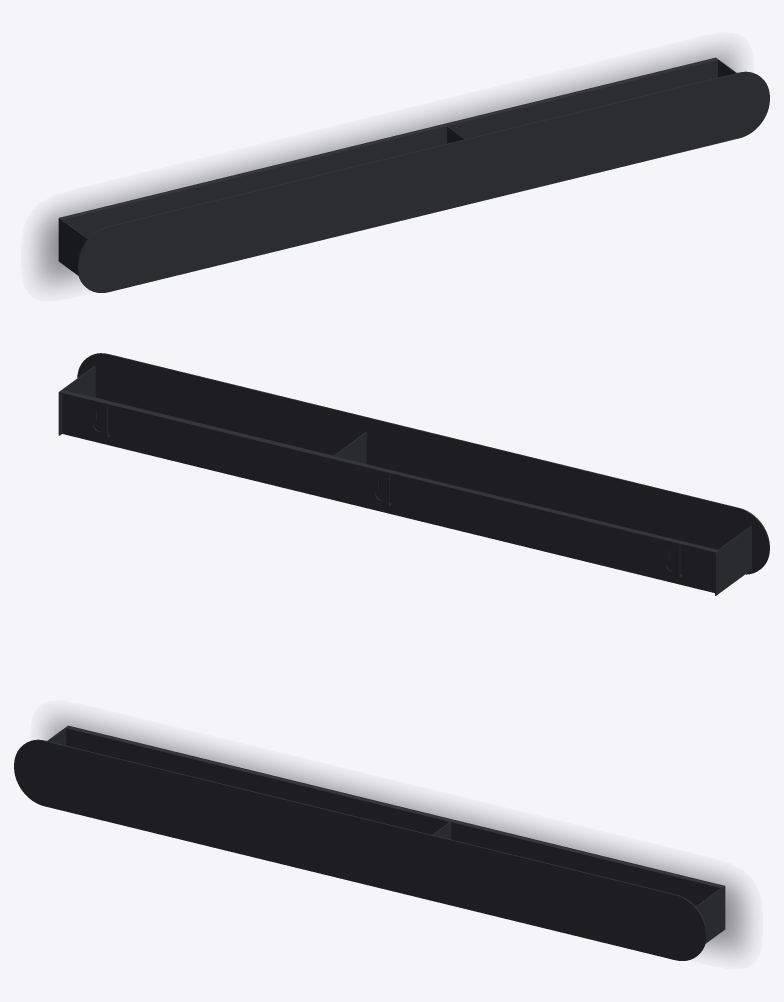
The model's file is round-double.4ce0a3fb44.ar.glb.
3 views of the same model, one above another, from view 1: azimuth 30°, elevation 25°; view 2: azimuth 150°, elevation 25°; view 3: azimuth 330°, elevation 25° (orthographic).
Visible parts, largest first — view 1: NAUO1, object 2; view 2: NAUO1; view 3: NAUO1, object 2.
Part boxes in pixels (x1,y1,x2,y2): NAUO1: [58, 57, 769, 292]; object 2: [35, 48, 739, 285]; NAUO1: [58, 353, 769, 595]; NAUO1: [14, 725, 725, 960]; object 2: [44, 716, 748, 953].
Size of the model in its own units: 1.08 by 0.17 by 0.092.
2 materials, 1 textured.
